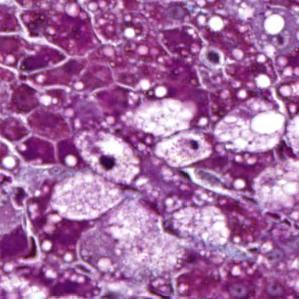ballooning: (211, 96, 287, 156), (73, 128, 142, 186), (151, 127, 213, 175)
